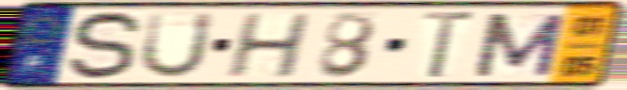8: (314, 10, 378, 80)
H: (222, 11, 314, 80)
M: (469, 11, 570, 79)
S: (65, 8, 146, 83)
T: (418, 9, 481, 81)
U: (135, 10, 218, 81)
